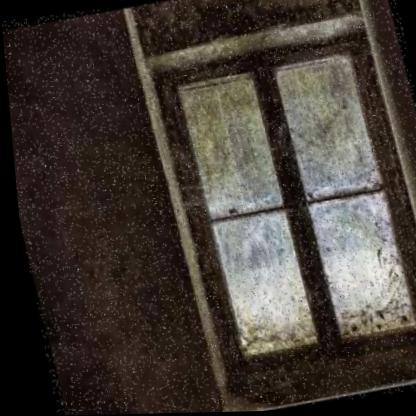Window: (150, 31, 416, 384)
